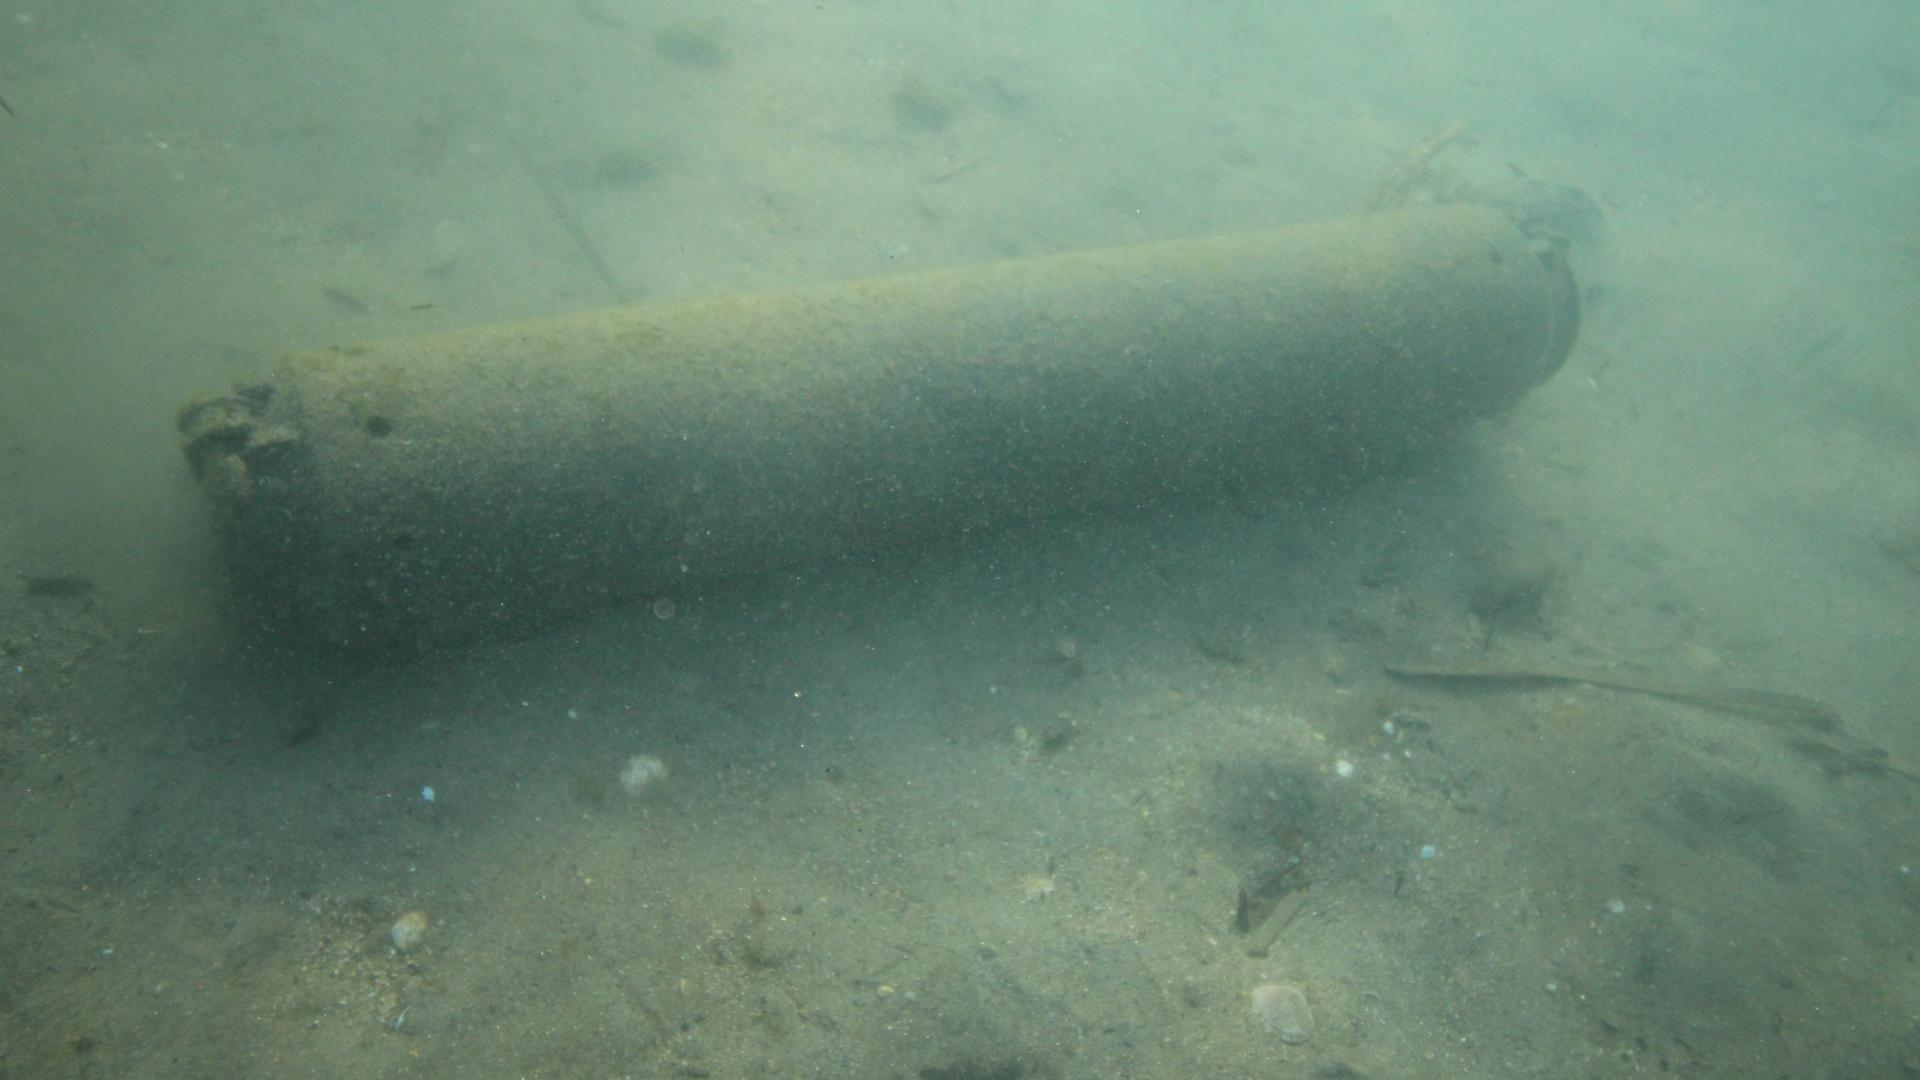eel fish trap: (174, 200, 1578, 653)
